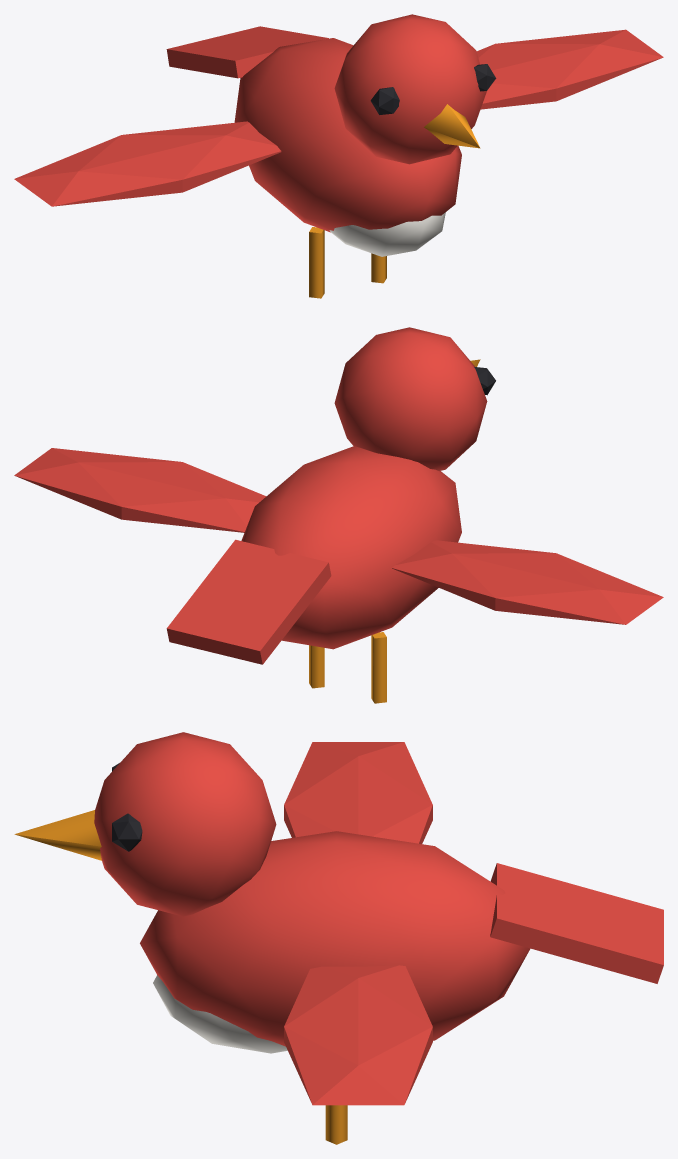
The model's file is ave_roja.glb.
3 renders of one model, top to bottom at view 1: azimuth 30°, elevation 25°; view 2: azimuth 150°, elevation 25°; view 3: azimuth 270°, elevation 25°, orthographic. The views are drawn at different scales.
Visible parts, largest first — view 1: cuerpo, pluma (×2), cabeza, cola, pecho, pico, pata_izq, ojo_izq, pata_der, ojo_der; view 2: cuerpo, pluma (×2), cabeza, cola, pata_izq, pata_der; view 3: cuerpo, pluma (×2), cabeza, cola, pecho, pico, ojo_der, pata_der.
Boxes of the visible parts, x1=… form: cuerpo: x1=234, y1=38, x2=461, y2=232; pluma (×2): x1=14, y1=29, x2=663, y2=206; cabeza: x1=334, y1=14, x2=486, y2=164; cola: x1=166, y1=26, x2=328, y2=78; pecho: x1=329, y1=212, x2=445, y2=256; pico: x1=424, y1=104, x2=480, y2=148; pata_izq: x1=309, y1=227, x2=324, y2=298; ojo_izq: x1=370, y1=87, x2=399, y2=114; pata_der: x1=371, y1=253, x2=386, y2=283; ojo_der: x1=474, y1=64, x2=496, y2=91; cuerpo: x1=241, y1=446, x2=461, y2=649; pluma (×2): x1=14, y1=448, x2=663, y2=624; cabeza: x1=334, y1=327, x2=487, y2=470; cola: x1=166, y1=539, x2=331, y2=664; pata_izq: x1=371, y1=632, x2=386, y2=703; pata_der: x1=309, y1=645, x2=324, y2=688; cuerpo: x1=140, y1=831, x2=530, y2=1046; pluma (×2): x1=284, y1=742, x2=432, y2=1105; cabeza: x1=94, y1=732, x2=276, y2=916; cola: x1=490, y1=863, x2=663, y2=983; pecho: x1=153, y1=975, x2=287, y2=1053; pico: x1=14, y1=810, x2=101, y2=860; ojo_der: x1=112, y1=813, x2=142, y2=851; pata_der: x1=325, y1=1105, x2=347, y2=1144.
Size of the model in its own units: 0.7862 by 0.385 by 0.5944.
